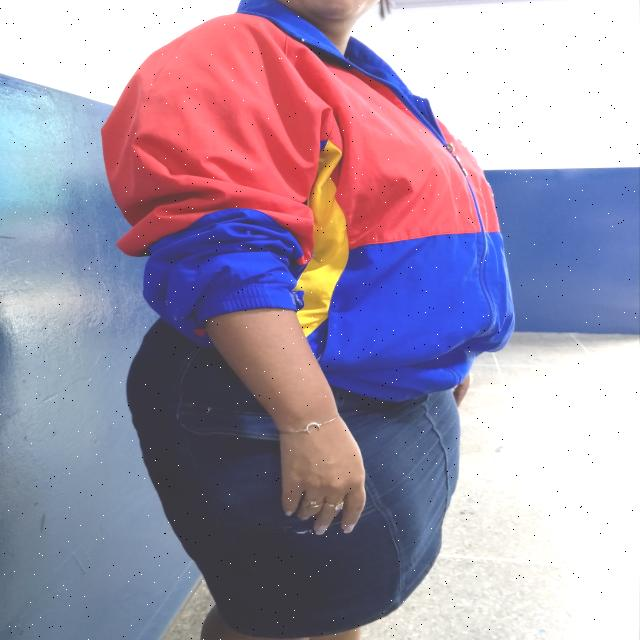chaqueta_unefa: (99, 0, 517, 405)
pantalon_oscuro: (124, 334, 463, 628)
